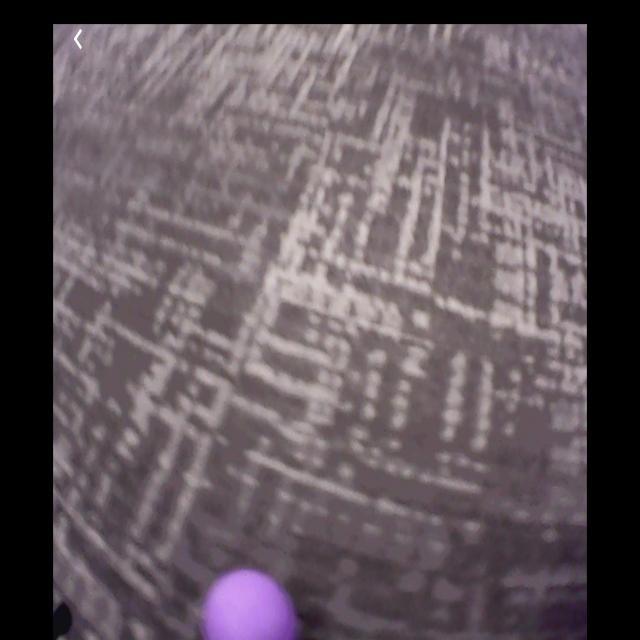ball: (201, 569, 297, 640)
